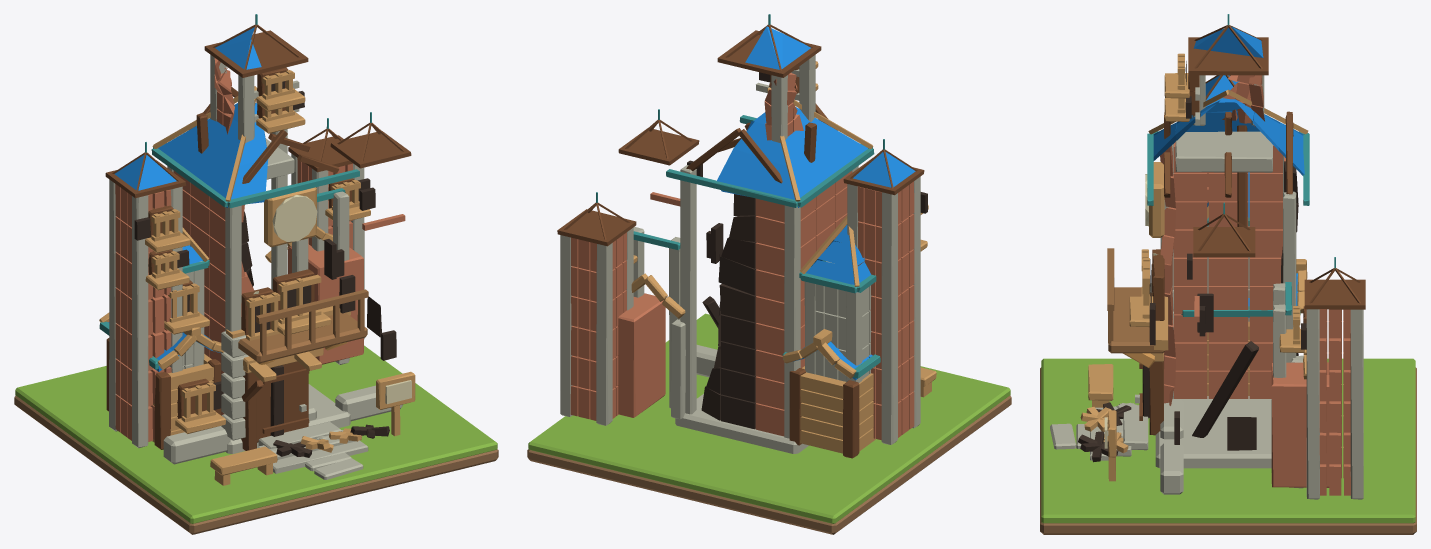
The model's file is town_hall_l12_damaged_LOD1.glb.
3 renders of one model, left to right at view 1: azimuth 30°, elevation 25°; view 2: azimuth 150°, elevation 25°; view 3: azimuth 270°, elevation 25°, orthographic. The views are drawn at different scales.
Visible parts, largest first — view 1: town_hall_l12_damaged_foundation.001, town_hall_l12_damaged_grass_tile.001, town_hall_l12_damaged_earth_tile.001, town_hall_l12_damaged_path_stone.005; view 2: town_hall_l12_damaged_foundation.001, town_hall_l12_damaged_grass_tile.001, town_hall_l12_damaged_earth_tile.001; view 3: town_hall_l12_damaged_foundation.001, town_hall_l12_damaged_grass_tile.001, town_hall_l12_damaged_earth_tile.001, town_hall_l12_damaged_path_stone.005.
Boxes of the visible parts, x1,y1,x2,y2 form: town_hall_l12_damaged_foundation.001: [99, 14, 415, 485]; town_hall_l12_damaged_grass_tile.001: [15, 345, 497, 523]; town_hall_l12_damaged_earth_tile.001: [14, 395, 498, 534]; town_hall_l12_damaged_path_stone.005: [314, 458, 363, 479]; town_hall_l12_damaged_foundation.001: [557, 14, 936, 458]; town_hall_l12_damaged_grass_tile.001: [528, 313, 1010, 523]; town_hall_l12_damaged_earth_tile.001: [527, 395, 1011, 534]; town_hall_l12_damaged_foundation.001: [1078, 14, 1365, 499]; town_hall_l12_damaged_grass_tile.001: [1041, 358, 1415, 523]; town_hall_l12_damaged_earth_tile.001: [1040, 367, 1416, 534]; town_hall_l12_damaged_path_stone.005: [1050, 423, 1076, 449].
Size of the model in its own units: 3.6 by 4.67 by 3.6.
